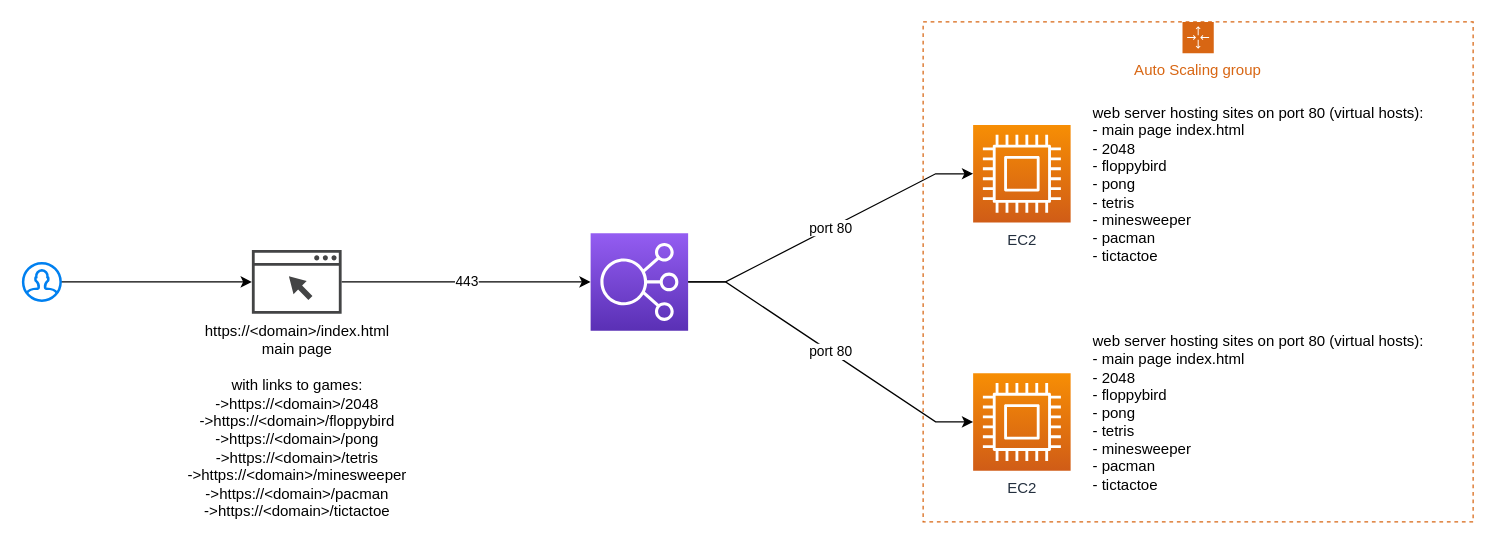
Some shapes in this 1495 by 544 pixel diagram are drawn without their labels. The shapes that lost their labels are listed below. From the top down, each one's centre as x and y in pixels, then its label:
At pixel 41 281: "User".
At pixel 638 281: "Application Load Balancer using path-based routing".
